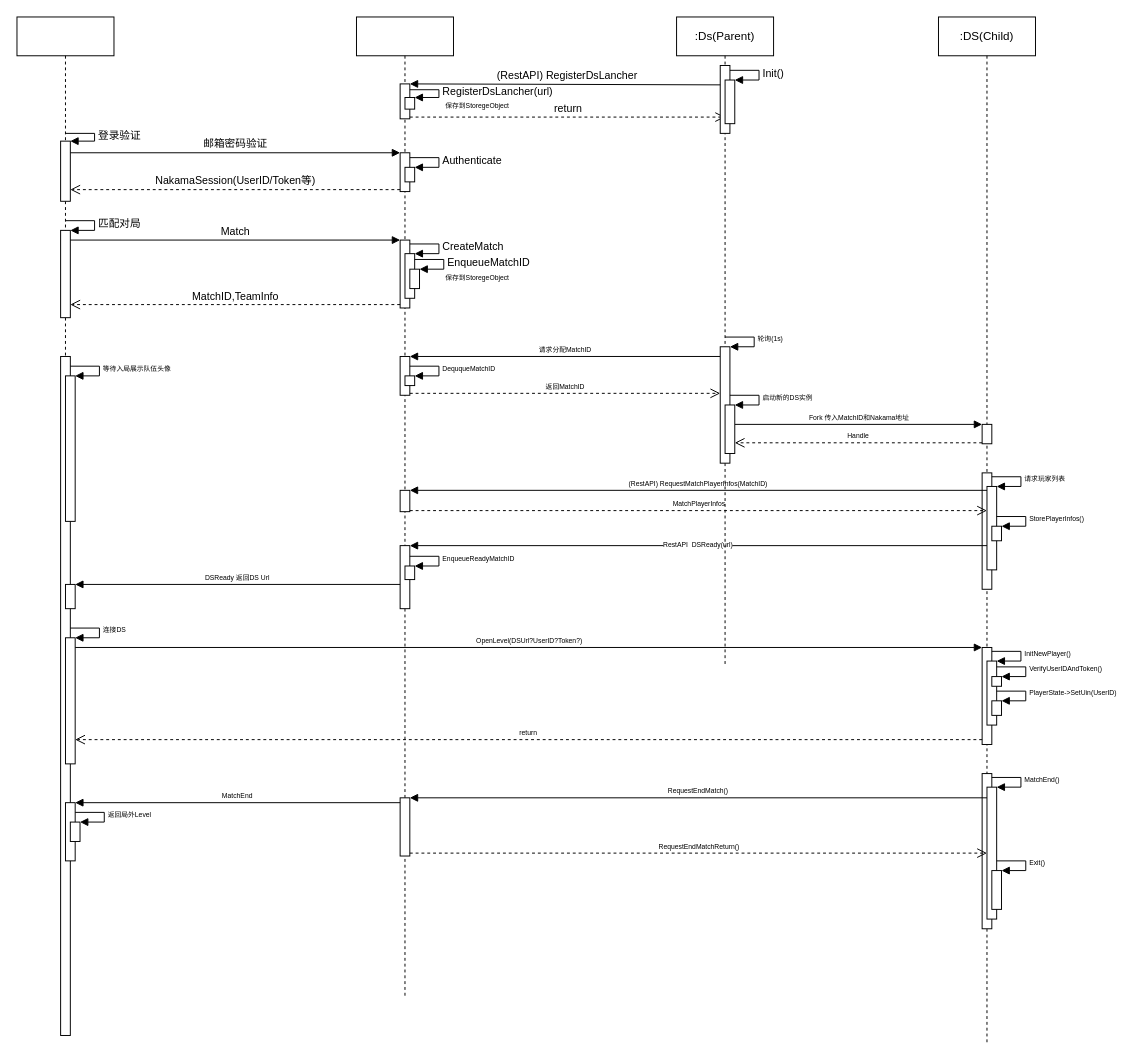
This 1134x1062 diagram has some shape labels left out. Each missing label, with the centre of its shape:
":Client" belongs at [65,525].
":Nakama" belongs at [404,506].
